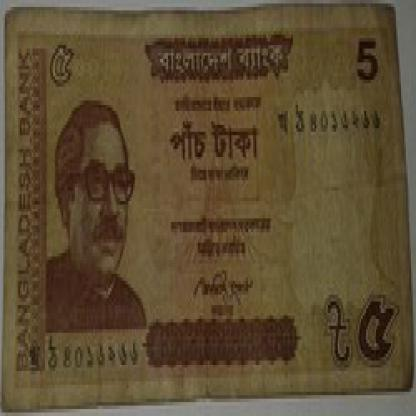Five Taka: (351, 284, 399, 378), (40, 17, 86, 111), (343, 28, 386, 97)
